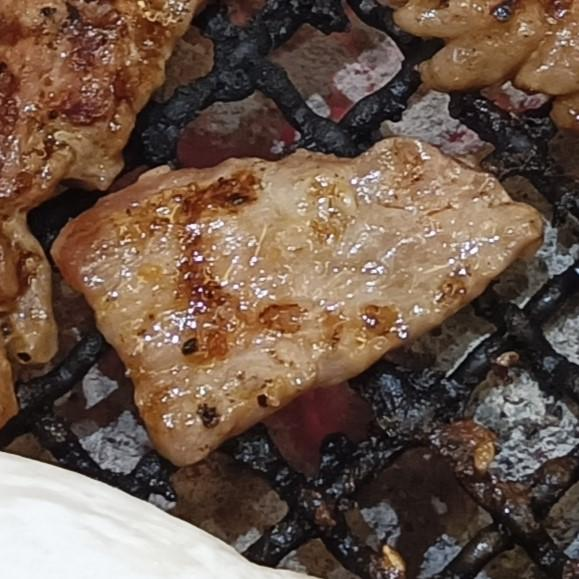Overcooked: (0, 0, 207, 433), (393, 0, 578, 132)
Well-Cooked: (51, 137, 548, 469)
